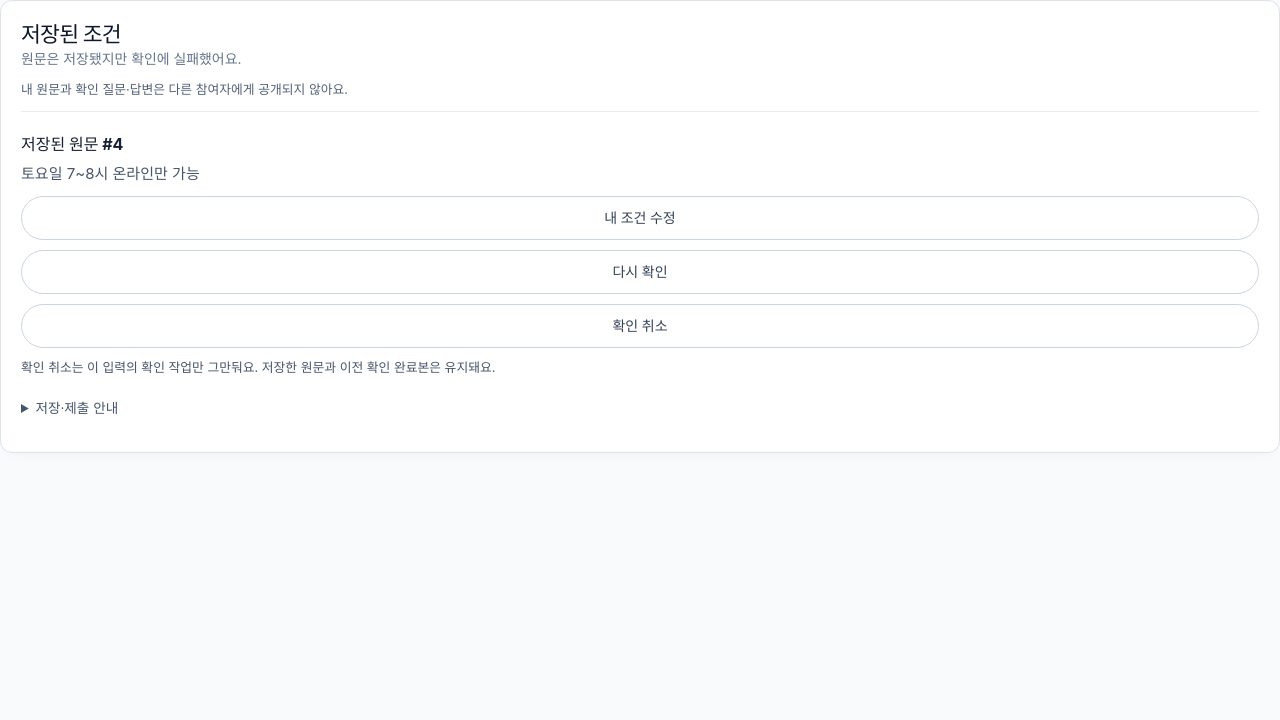
#32 historical questions never reopen a terminated check › restores FAILED without activating a retained historical question
This screenshot has width=1280, height=720.
Expected: the text "원문은 저장됐지만 확인에 실패했어요." is shown, [21,51,242,67]
Expected: the text "토요일 7~8시 온라인만 가능" is shown, [21,164,200,183]
Click the button "내 조건 수정" at (640, 218), box [21,196,1259,240]
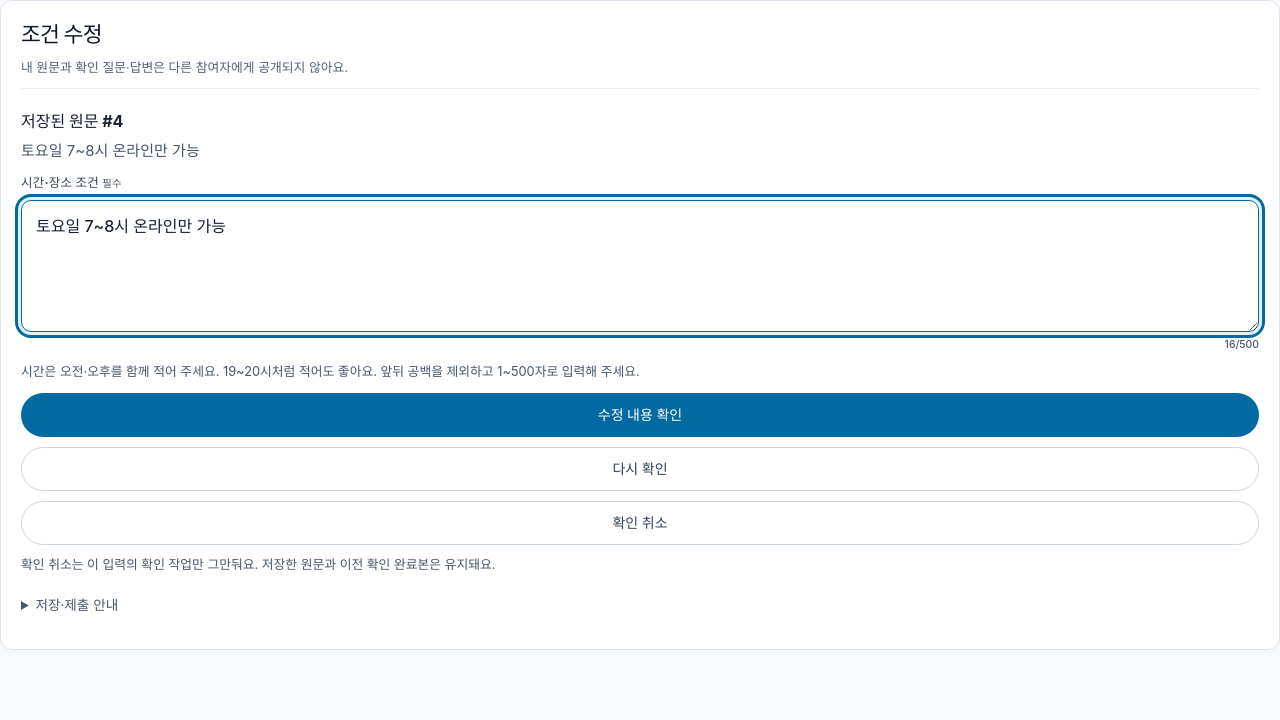
Expected: the text box labelled "시간·장소 조건 필수 16/500" holds "토요일 7~8시 온라인만 가능", [21,200,1259,332]
